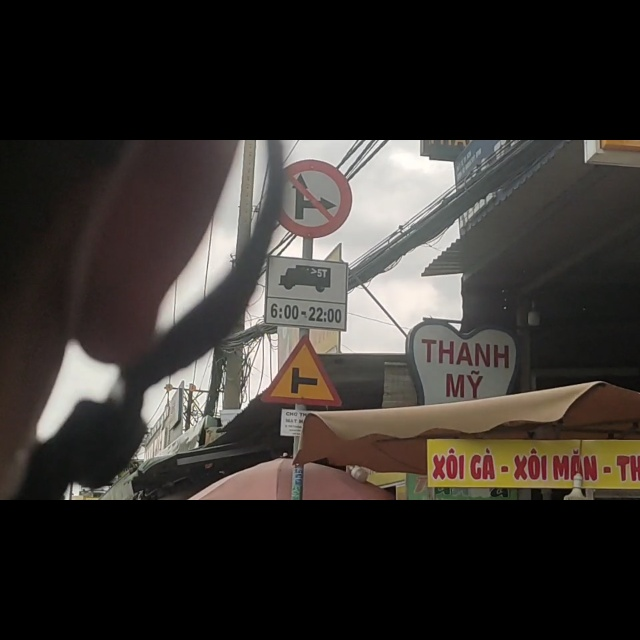bien_cam: (277, 36, 352, 175), (261, 339, 338, 468), (268, 209, 348, 333)
